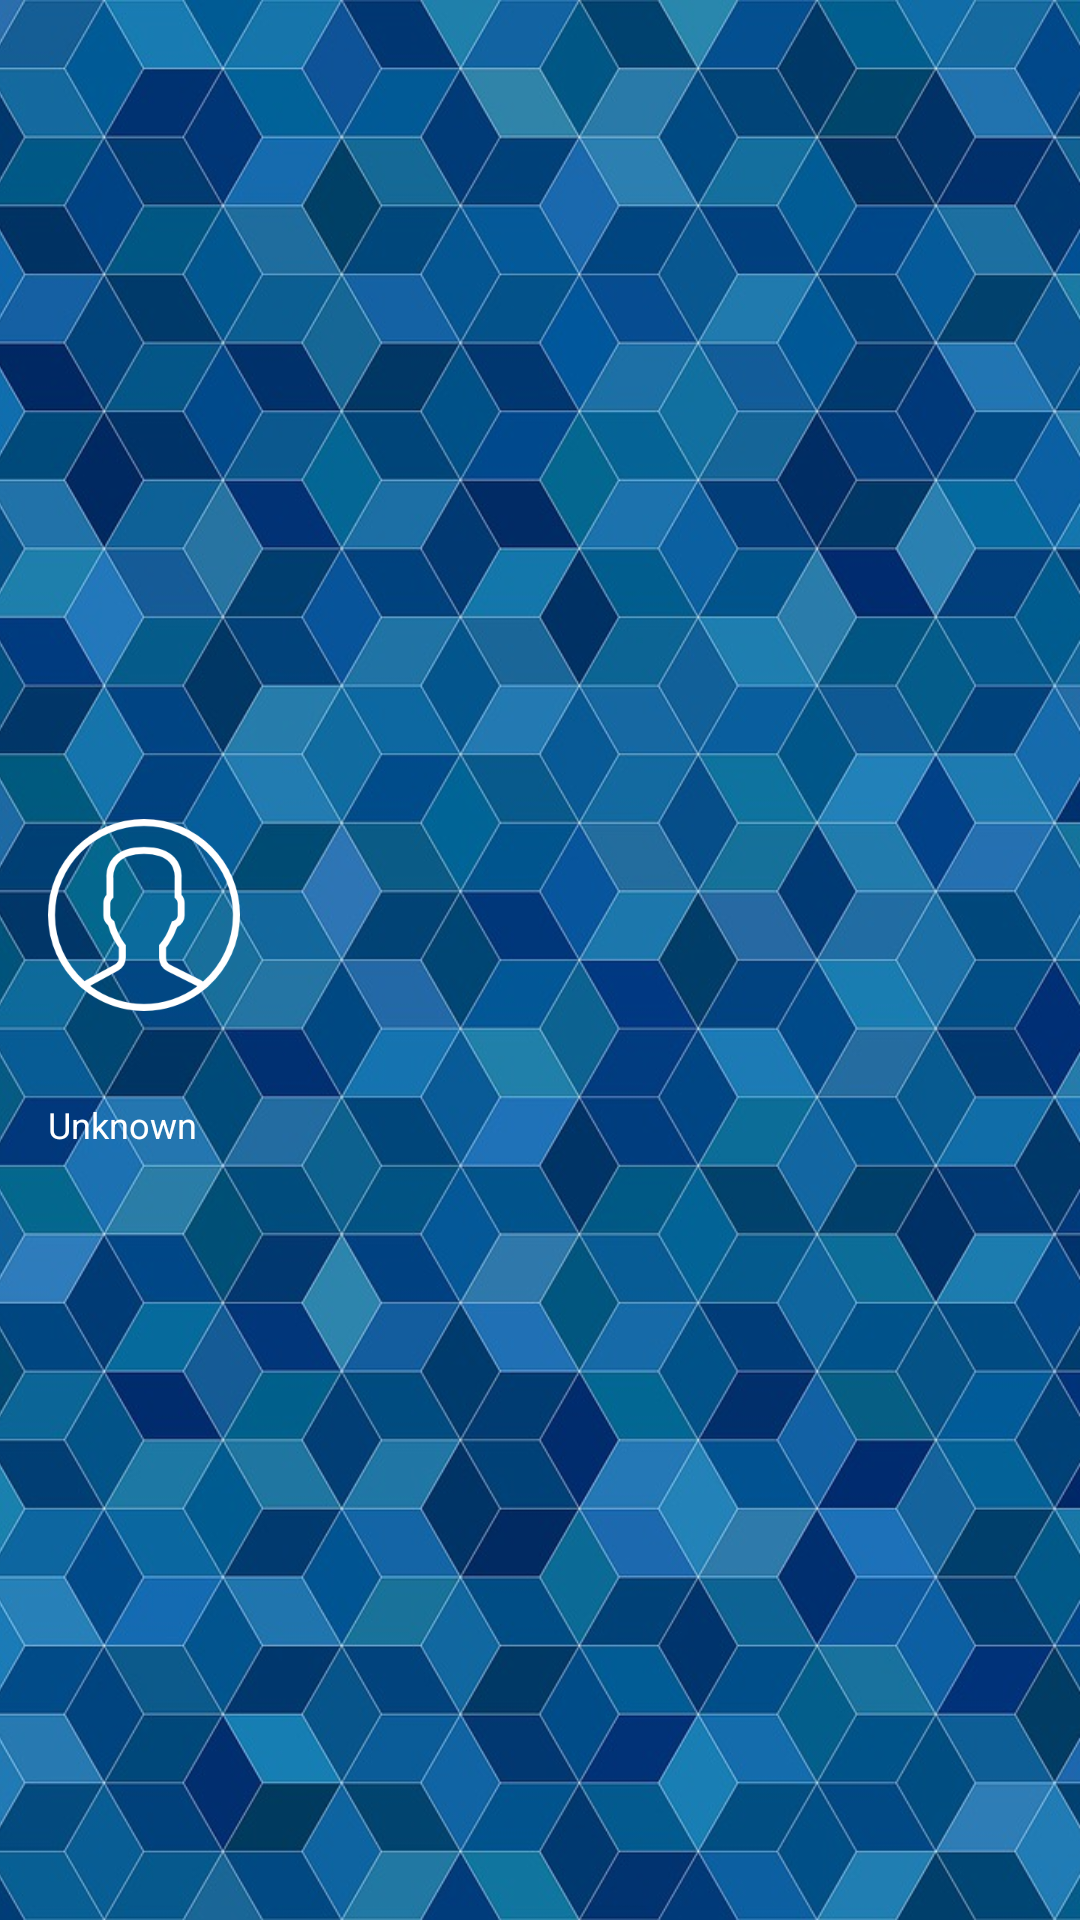

Screen size 1080w x 1920h. Icon name, then its center in pixels as (x,y):
Profile Picture: (144,915)
